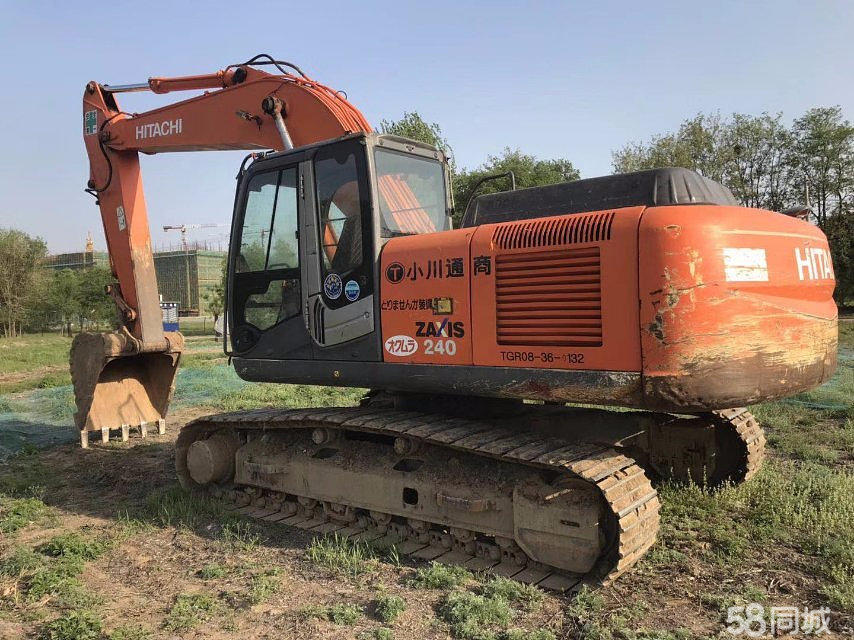excavator: (53, 48, 844, 581)
